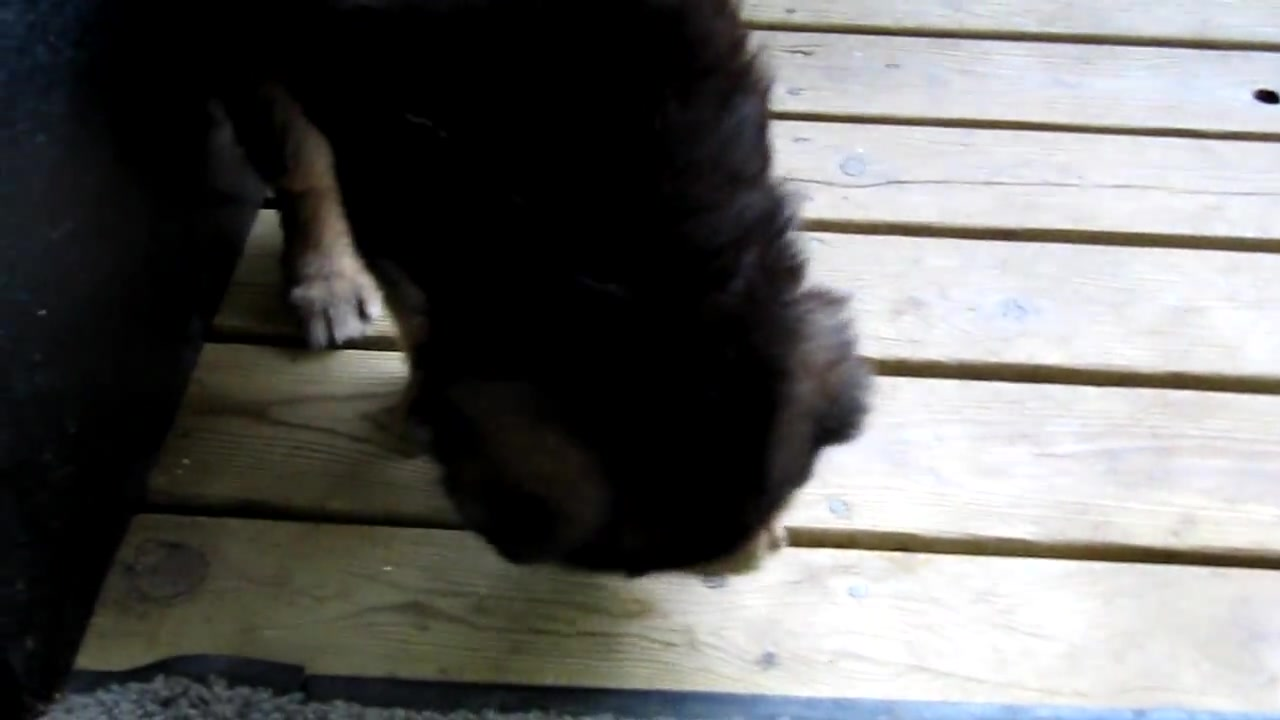dog: (182, 1, 873, 583)
